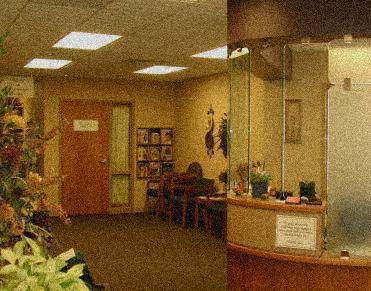Puerta: (61, 101, 108, 215)
